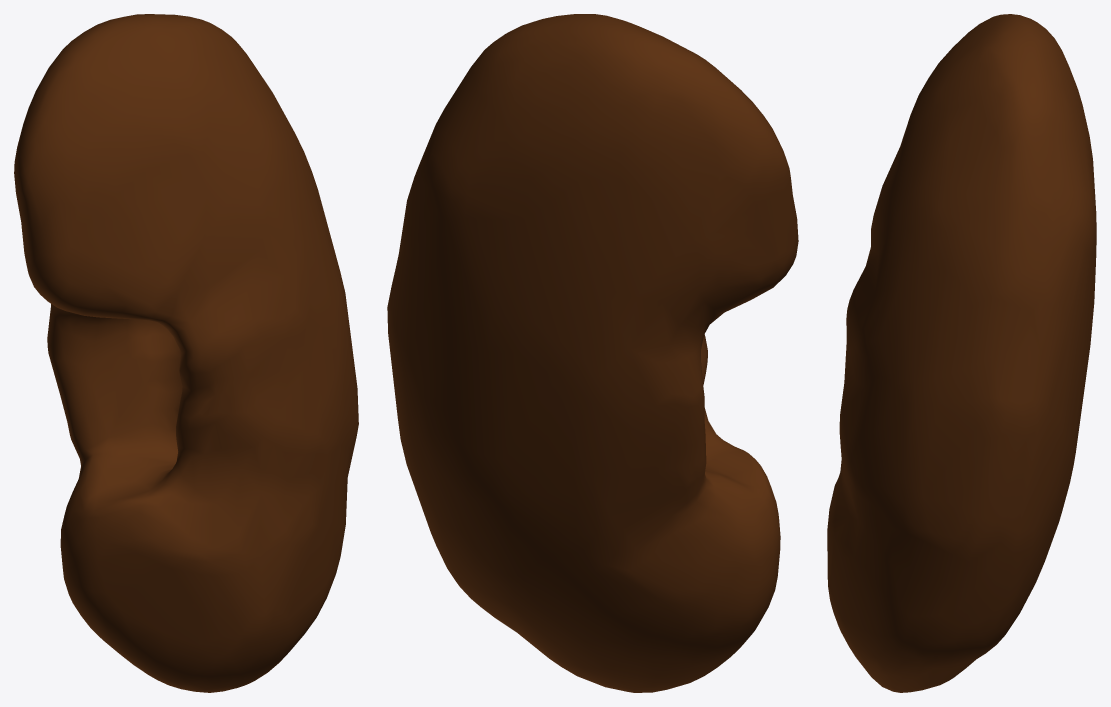
Rendered from Kidney_left.glb.
The picture shows the model from 3 angles, left to right: view 1: azimuth 30°, elevation 25°; view 2: azimuth 150°, elevation 25°; view 3: azimuth 270°, elevation 25°; orthographic projection. The views are drawn at different scales.
Visible parts, largest first — view 1: Kidney.l_grp1.554; view 2: Kidney.l_grp1.554; view 3: Kidney.l_grp1.554.
Part boxes in pixels (box(x1,y1,x2,y2)): Kidney.l_grp1.554: box(14, 14, 358, 692); Kidney.l_grp1.554: box(387, 14, 798, 692); Kidney.l_grp1.554: box(827, 14, 1096, 692).
Size of the model in its own units: 0.0575 by 0.1059 by 0.0406.
